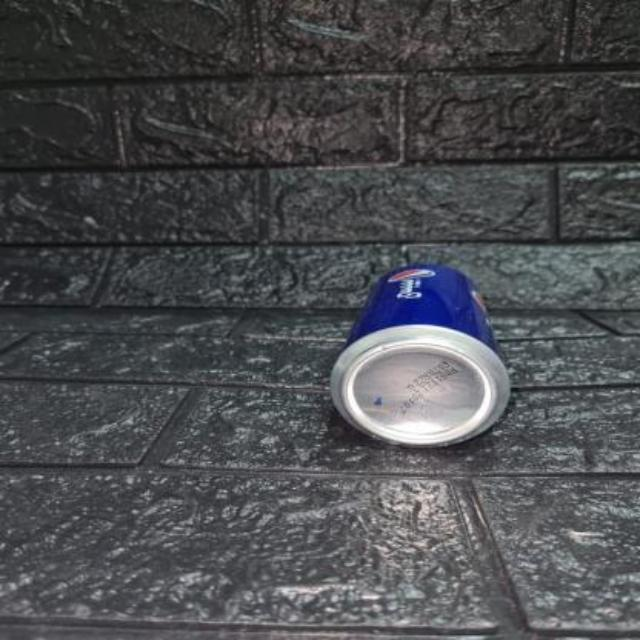metal: (329, 263, 506, 443)
